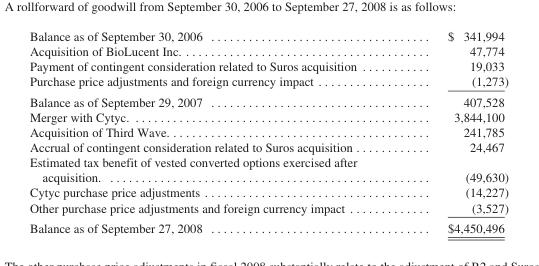table: (28, 28, 507, 234)
table column: (28, 28, 401, 234), (401, 28, 507, 234)
table row: (28, 154, 507, 184), (28, 73, 507, 91), (28, 199, 507, 217), (28, 91, 507, 108), (28, 217, 507, 234), (28, 123, 507, 139), (28, 28, 507, 43), (28, 43, 507, 58), (28, 58, 507, 73), (28, 108, 507, 123), (28, 139, 507, 154), (28, 184, 507, 199)
